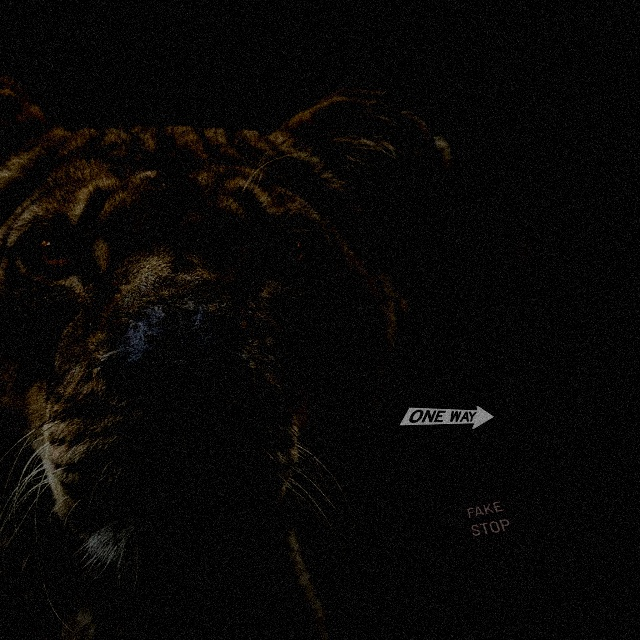FAKE_STOP: (442, 476, 560, 581)
ONE_WAY_ right: (381, 399, 499, 437)
